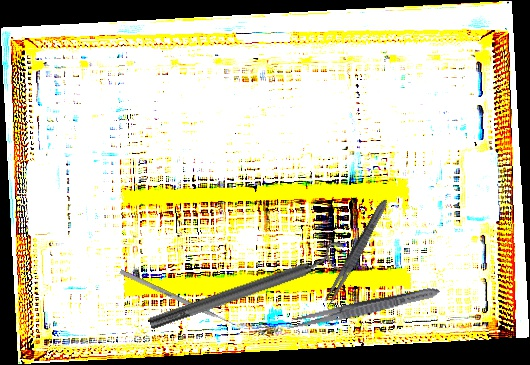Dressing Forceps: (320, 195, 392, 312), (284, 283, 442, 334)
Fixation Ring: (144, 239, 352, 338)
Pusher: (119, 269, 242, 330)
